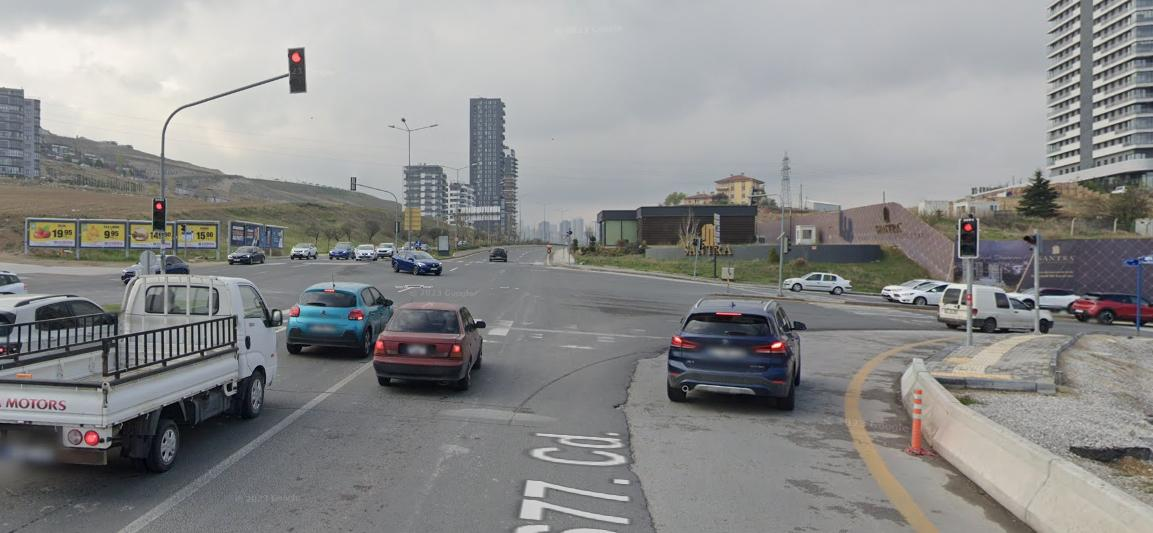redlight: (287, 48, 305, 91), (961, 218, 978, 258), (153, 198, 168, 231)
